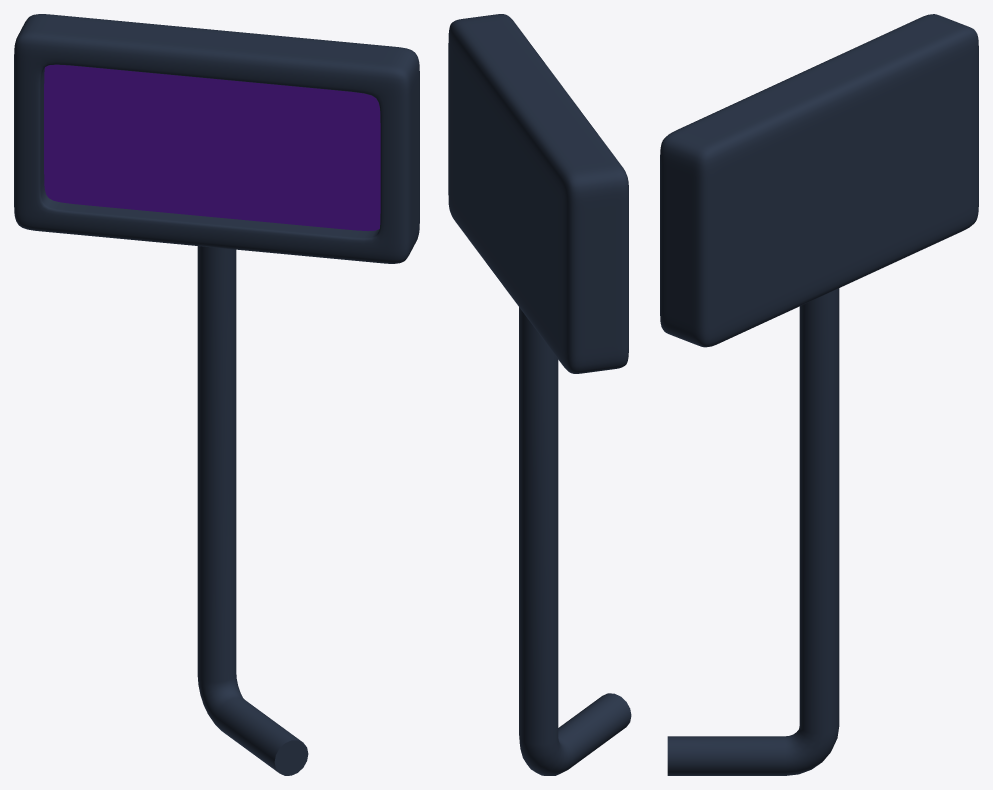
The model's file is best_score_board.fbx.
The picture shows the model from 3 angles, left to right: view 1: azimuth 30°, elevation 25°; view 2: azimuth 150°, elevation 25°; view 3: azimuth 270°, elevation 25°; orthographic projection.
Visible parts, largest first — view 1: Cube.001; view 2: Cube.001; view 3: Cube.001.
Boxes of the visible parts, <box> form: Cube.001: <box>14,14,419,775</box>; Cube.001: <box>448,14,631,775</box>; Cube.001: <box>660,14,978,775</box>.
Size of the model in its own units: 3.07 by 6.91 by 2.88.
